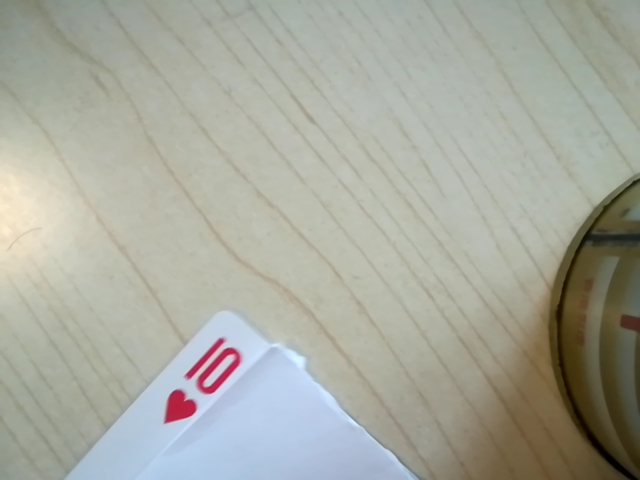hx 10: (155, 333, 256, 431)
